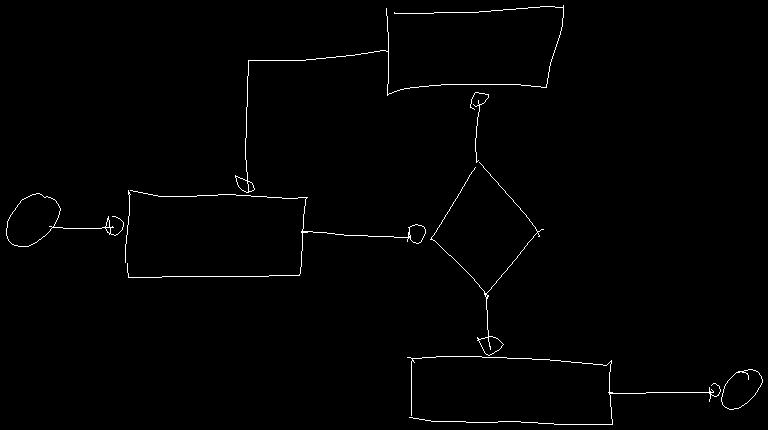arrow: (235, 50, 388, 192), (301, 224, 425, 243), (608, 383, 720, 401), (477, 293, 503, 355), (49, 216, 123, 235), (470, 92, 488, 162)
connection: (6, 193, 60, 246), (721, 369, 762, 409)
decision: (430, 162, 543, 296)
process: (386, 5, 563, 95), (125, 190, 307, 277), (407, 356, 612, 424)
